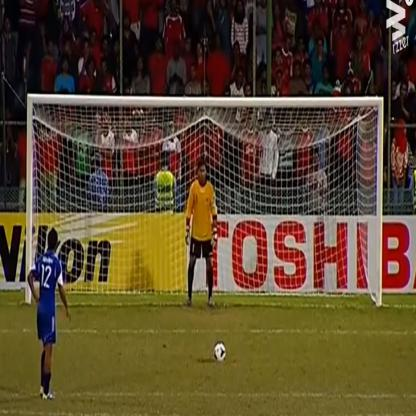penalty kick: (22, 59, 237, 414)
